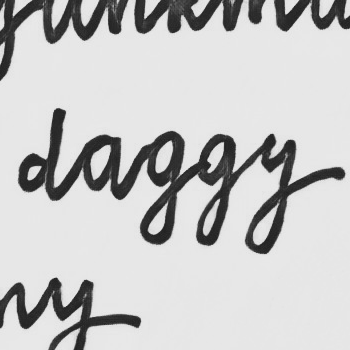a: (79, 132, 122, 199)
d: (15, 106, 67, 202)
g: (134, 129, 187, 247), (192, 132, 240, 248)
y: (243, 132, 298, 257)
